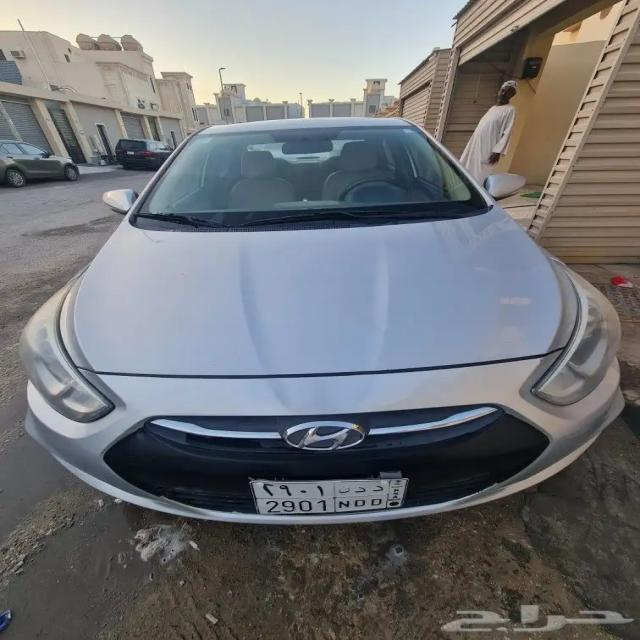license_plate: (255, 496, 390, 514)
